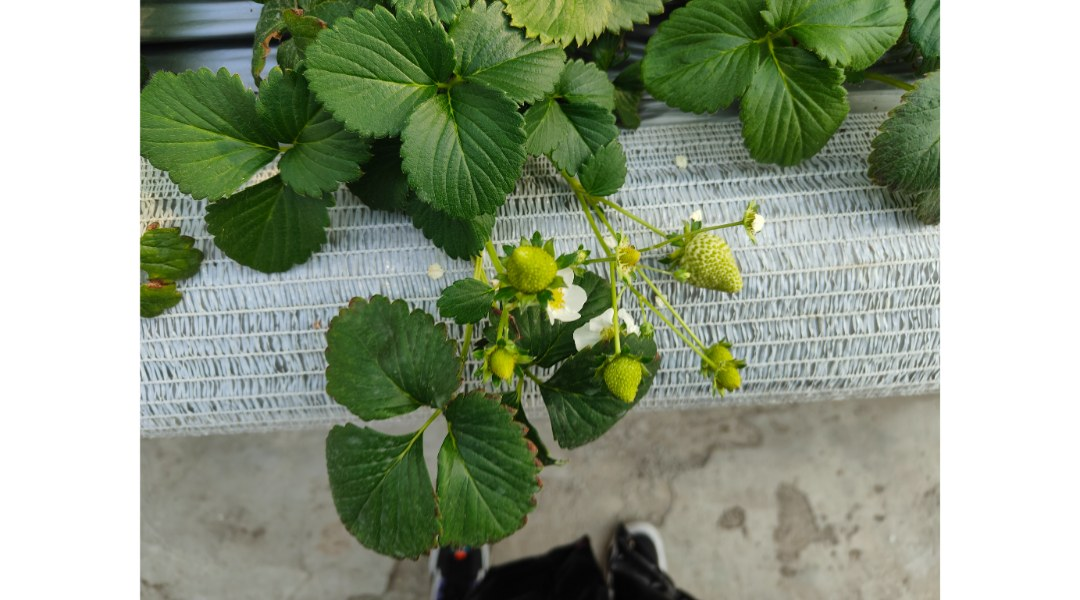berry: (499, 231, 565, 308), (671, 237, 748, 299), (604, 347, 647, 402), (482, 338, 529, 387), (693, 324, 734, 376), (613, 235, 641, 281), (716, 363, 749, 395)
flower: (551, 263, 590, 324), (578, 305, 639, 341), (746, 194, 767, 245)
strain: (569, 203, 611, 250), (620, 209, 658, 238), (692, 218, 739, 234)
